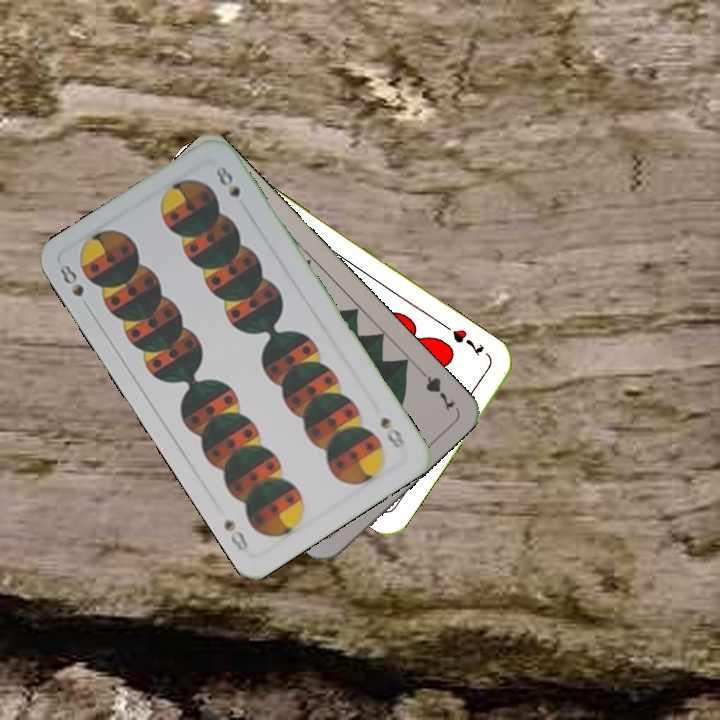G7: (412, 363, 458, 414)
H7: (439, 320, 487, 359)
S8: (52, 260, 94, 314), (376, 413, 408, 451)
